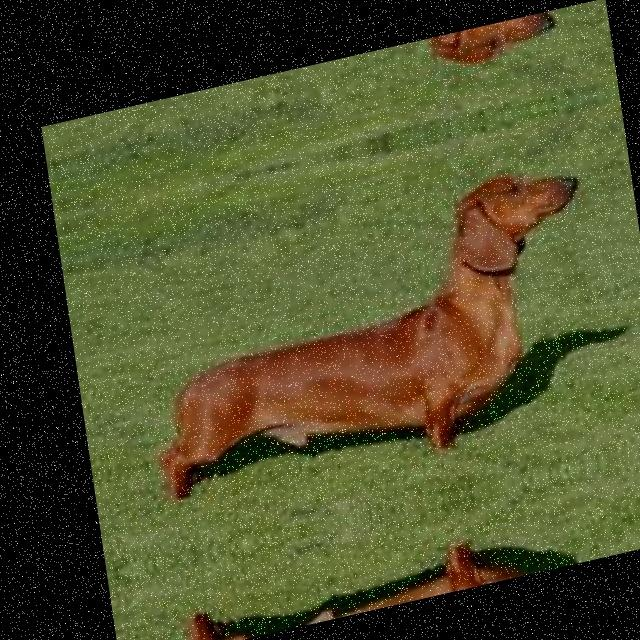dog: (107, 152, 618, 550), (154, 473, 634, 640), (85, 10, 560, 156)
